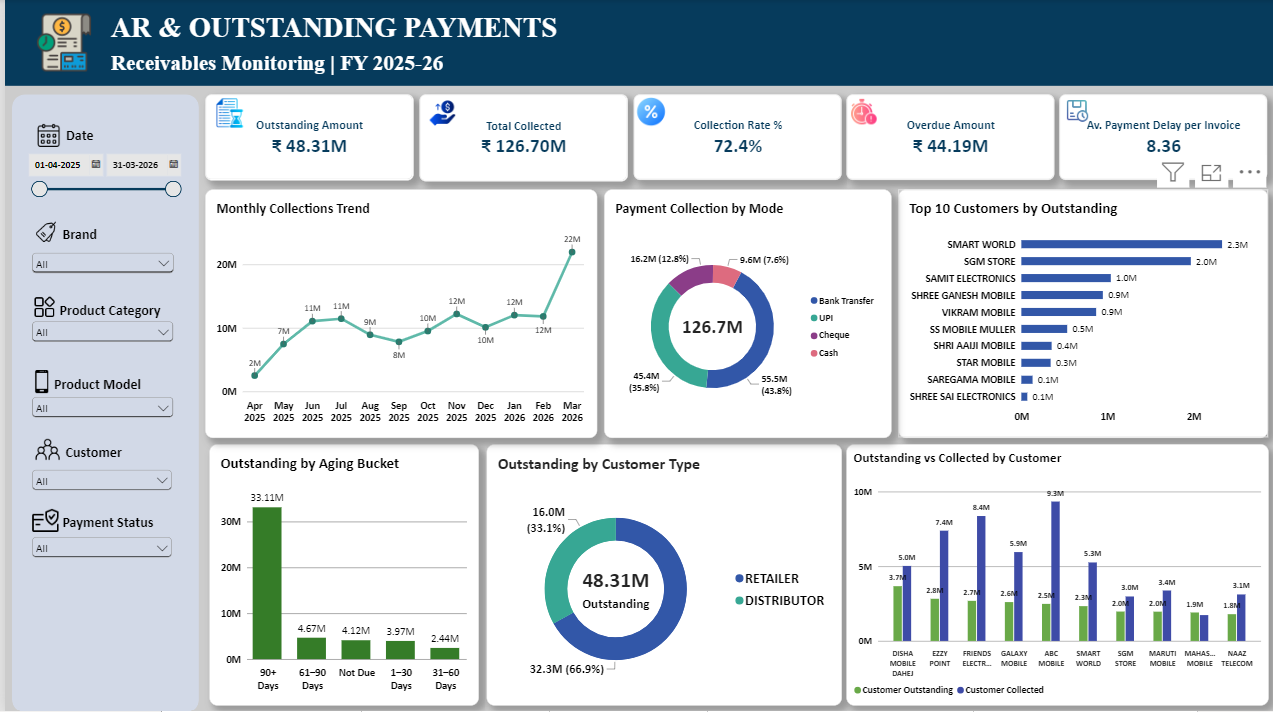

The dashboard page shown, as its layout file describes it:
{"tool":"powerbi","page":{"name":"AR & Outstanding Payment","canvas":[1920,1080],"ordinal":3},"visuals":[{"type":"shape","box":[9.9,143.7,283.1,936.6],"z":0},{"type":"actionButton","box":[0,0,100,40],"z":1000},{"type":"cardVisual","fields":{"Data":["Customers.Outstanding Amount"]},"box":[302.8,143.7,315.5,131],"z":2000},{"type":"cardVisual","fields":{"Data":["Customers.Total Collected"]},"box":[628.2,143.7,315.5,132.4],"z":3000},{"type":"cardVisual","fields":{"Data":["Customers.Collection Rate %"]},"box":[951.4,144.9,315,130],"z":4000},{"type":"cardVisual","fields":{"Data":["Customers.Overdue Amount"]},"box":[1273.8,144.9,315,130],"z":5000},{"type":"cardVisual","fields":{"Data":["Customers.Average Payment Delay per Invoice"]},"box":[1596.3,144.9,315,130],"z":6000},{"type":"slicer","title":"Date","fields":{"Values":["DateTable.Date"]},"box":[8,226,282,94],"z":7000},{"type":"slicer","title":"Brand","fields":{"Values":["Products.Brand"]},"box":[36.9,378.4,224,40],"z":8000},{"type":"image","box":[38.8,335,47.7,35.1],"z":9000},{"type":"textbox","box":[85.9,342.4,62.6,27.3],"z":10000},{"type":"image","box":[37.5,186.2,56,40],"z":11000},{"type":"textbox","box":[82.5,193.8,65,32.5],"z":12000},{"type":"slicer","title":"Brand","fields":{"Values":["Products.Category"]},"box":[35.1,483.8,223.8,47.6],"z":13000},{"type":"image","box":[35.1,449.5,46.8,34.2],"z":14000},{"type":"image","box":[33.3,561.3,44.1,35.1],"z":15000},{"type":"image","box":[42.5,663.8,44.1,36.9],"z":16000},{"type":"image","box":[30,768.8,62.5,40],"z":17000},{"type":"textbox","box":[82,456.8,164,27],"z":18000},{"type":"slicer","title":"Brand","fields":{"Values":["Products.Product_Model"]},"box":[35.1,598.2,223.4,42.3],"z":19000},{"type":"textbox","box":[73.9,569.4,136,27],"z":20000},{"type":"slicer","title":"Brand","fields":{"Values":["Customers.Customer_Name"]},"box":[36.9,707.2,221.6,42.3],"z":21000},{"type":"textbox","box":[86.2,673.8,100,33.8],"z":22000},{"type":"slicer","title":"Brand","fields":{"Values":["Sales_Invoices.Payment_Status"]},"box":[35,808.8,221.6,42.3],"z":23000},{"type":"textbox","box":[86.9,780.8,143.4,28.3],"z":24000},{"type":"image","box":[313.9,149.6,53,44.3],"z":25000},{"type":"image","box":[635.7,149.6,53,44.3],"z":26000},{"type":"image","box":[951.7,148.3,53,44.3],"z":27000},{"type":"shape","box":[0,0,1920,131.7],"z":28000},{"type":"textbox","box":[10,20,933.3,100],"z":29000},{"type":"image","box":[36.7,20,106.7,93.3],"z":30000},{"type":"clusteredColumnChart","title":"Outstanding by Aging Bucket","fields":{"Category":["Sales_Invoices.Aging_Bucket"],"Y":["Sum(Sales_Invoices.Aging Outstanding)"]},"box":[308.7,673.9,407.6,395.7],"z":31000},{"type":"clusteredBarChart","title":"Top 10 Customers by Outstanding","fields":{"Category":["Customers.Customer_Name"],"Y":["Customers.Invoice Outstanding"]},"box":[1352.2,288,559.8,376.1],"z":32000},{"type":"donutChart","title":"Outstanding by Customer Type","fields":{"Category":["Customers.Customer_Type"],"Y":["Customers.Invoice Outstanding"]},"box":[728.3,673.9,538,395.7],"z":33000},{"type":"lineChart","title":"Monthly Collections Trend","fields":{"Category":["DateTable.FY Month"],"Y":["Customers.Monthly Collection"]},"box":[303.3,288,593.5,376.1],"z":34000},{"type":"clusteredColumnChart","title":"Outstanding vs Collected by Customer","fields":{"Category":["Customers.Customer_Name"],"Y":["Customers.Customer Outstanding","Customers.Customer Collected"]},"box":[1272.8,673.9,639.1,395.7],"z":35000},{"type":"donutChart","title":"Payment Collection by Mode","fields":{"Category":["Payments.Payment_Mode"],"Y":["Customers.Total Collected"]},"box":[906.5,288,434.8,376.1],"z":36000},{"type":"image","box":[1273.3,148.3,53,44.3],"z":37000},{"type":"image","box":[1605,150,38.8,37.5],"z":38000}]}

Visuals, with their boxes in screenshot pixels (x1, y1, x2, y2), scaled from the page's 1920x1080 canvas onto the 1273x712 screenshot:
shape: crop(7, 95, 194, 711)
actionButton: crop(0, 0, 66, 26)
cardVisual - Customers.Outstanding Amount: crop(201, 95, 410, 181)
cardVisual - Customers.Total Collected: crop(417, 95, 626, 182)
cardVisual - Customers.Collection Rate %: crop(631, 96, 840, 181)
cardVisual - Customers.Overdue Amount: crop(845, 96, 1053, 181)
cardVisual - Customers.Average Payment Delay per Invoice: crop(1058, 96, 1267, 181)
"Date" slicer: crop(5, 149, 192, 211)
"Brand" slicer: crop(24, 249, 173, 276)
image: crop(26, 221, 57, 244)
textbox: crop(57, 226, 98, 244)
image: crop(25, 123, 62, 149)
textbox: crop(55, 128, 98, 149)
"Brand" slicer: crop(23, 319, 172, 350)
image: crop(23, 296, 54, 319)
image: crop(22, 370, 51, 393)
image: crop(28, 438, 57, 462)
image: crop(20, 507, 61, 533)
textbox: crop(54, 301, 163, 319)
"Brand" slicer: crop(23, 394, 171, 422)
textbox: crop(49, 375, 139, 393)
"Brand" slicer: crop(24, 466, 171, 494)
textbox: crop(57, 444, 123, 466)
"Brand" slicer: crop(23, 533, 170, 561)
textbox: crop(58, 515, 153, 533)
image: crop(208, 99, 243, 128)
image: crop(421, 99, 457, 128)
image: crop(631, 98, 666, 127)
shape: crop(0, 0, 1272, 87)
textbox: crop(7, 13, 625, 79)
image: crop(24, 13, 95, 75)
"Outstanding by Aging Bucket" clusteredColumnChart: crop(205, 444, 475, 705)
"Top 10 Customers by Outstanding" clusteredBarChart: crop(897, 190, 1268, 438)
"Outstanding by Customer Type" donutChart: crop(483, 444, 840, 705)
"Monthly Collections Trend" lineChart: crop(201, 190, 595, 438)
"Outstanding vs Collected by Customer" clusteredColumnChart: crop(844, 444, 1268, 705)
"Payment Collection by Mode" donutChart: crop(601, 190, 889, 438)
image: crop(844, 98, 879, 127)
image: crop(1064, 99, 1090, 124)
